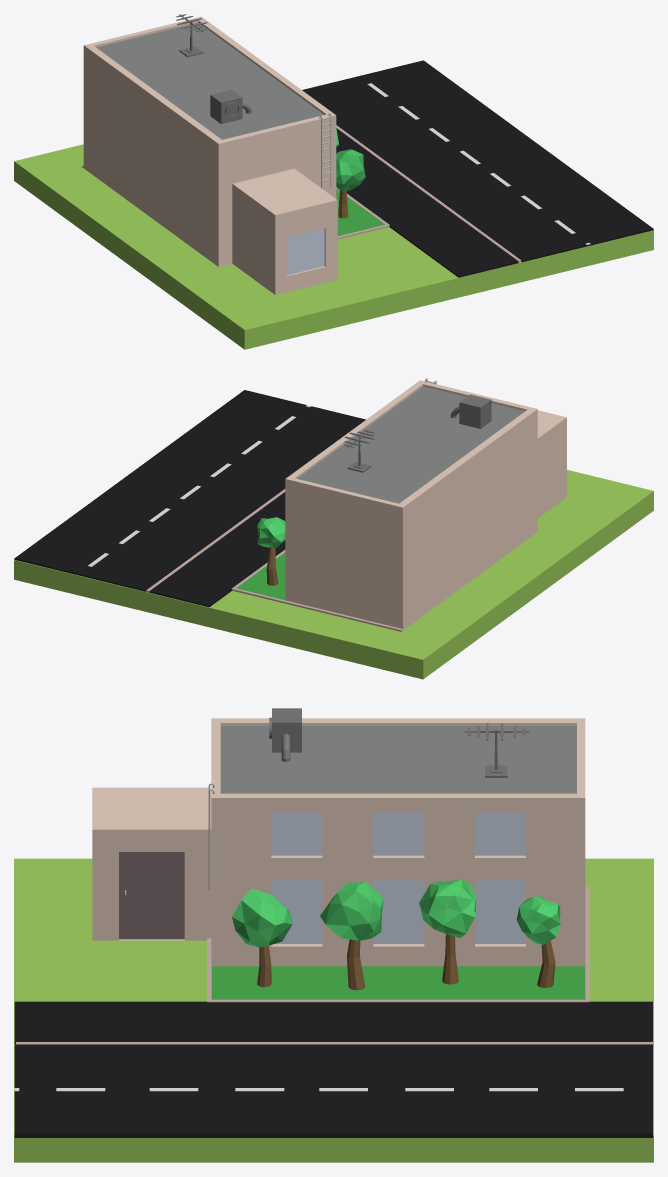
The model's file is building.gltf.
3 renders of one model, top to bottom at view 1: azimuth 30°, elevation 25°; view 2: azimuth 150°, elevation 25°; view 3: azimuth 270°, elevation 25°, orthographic. The views are drawn at different scales.
Parts seen in each view (by area): view 1: Cube, Plane, Cube.007, Cube.006, Icosphere, Cube.003, Cube.001, bordure.003, Cube.002; view 2: Cube, Cube.007, Plane, Cube.006, Cube.003, Cube.001, Icosphere.003, bordure.001, bordure.003, Cube.002; view 3: Cube, Cube.007, Plane, Cube.006, Cube.003, Icosphere.001, Icosphere.002, Icosphere, bordure.003, Icosphere.003, bordure.002, Cube.001 (+2 smaller).
Boxes of the visible parts, x1=… form: Cube: x1=83, y1=16, x2=337, y2=294; Plane: x1=14, y1=144, x2=653, y2=349; Cube.007: x1=302, y1=60, x2=653, y2=262; Cube.006: x1=336, y1=129, x2=518, y2=277; Icosphere: x1=336, y1=149, x2=365, y2=190; Cube.003: x1=336, y1=189, x2=384, y2=235; Cube.001: x1=210, y1=89, x2=242, y2=124; bordure.003: x1=336, y1=125, x2=521, y2=262; Cube.002: x1=176, y1=14, x2=207, y2=57; Cube: x1=285, y1=380, x2=566, y2=630; Cube.007: x1=14, y1=390, x2=365, y2=591; Plane: x1=14, y1=470, x2=653, y2=679; Cube.006: x1=149, y1=492, x2=285, y2=607; Cube.003: x1=236, y1=552, x2=285, y2=600; Cube.001: x1=459, y1=394, x2=491, y2=428; Icosphere.003: x1=257, y1=517, x2=285, y2=547; bordure.001: x1=234, y1=588, x2=402, y2=631; bordure.003: x1=146, y1=489, x2=285, y2=592; Cube.002: x1=344, y1=429, x2=374, y2=472; Cube: x1=92, y1=718, x2=585, y2=966; Cube.007: x1=14, y1=1044, x2=652, y2=1137; Plane: x1=14, y1=858, x2=653, y2=1162; Cube.006: x1=14, y1=1001, x2=652, y2=1044; Cube.003: x1=211, y1=966, x2=585, y2=999; Icosphere.001: x1=320, y1=882, x2=383, y2=941; Icosphere.002: x1=419, y1=879, x2=475, y2=937; Icosphere: x1=232, y1=888, x2=292, y2=947; bordure.003: x1=16, y1=1042, x2=653, y2=1045; Icosphere.003: x1=516, y1=896, x2=560, y2=944; bordure.002: x1=207, y1=999, x2=589, y2=1002; Cube.001: x1=272, y1=708, x2=301, y2=752.
Bounding box in the file's own units: 6.96 × 2.78 × 6.8.
